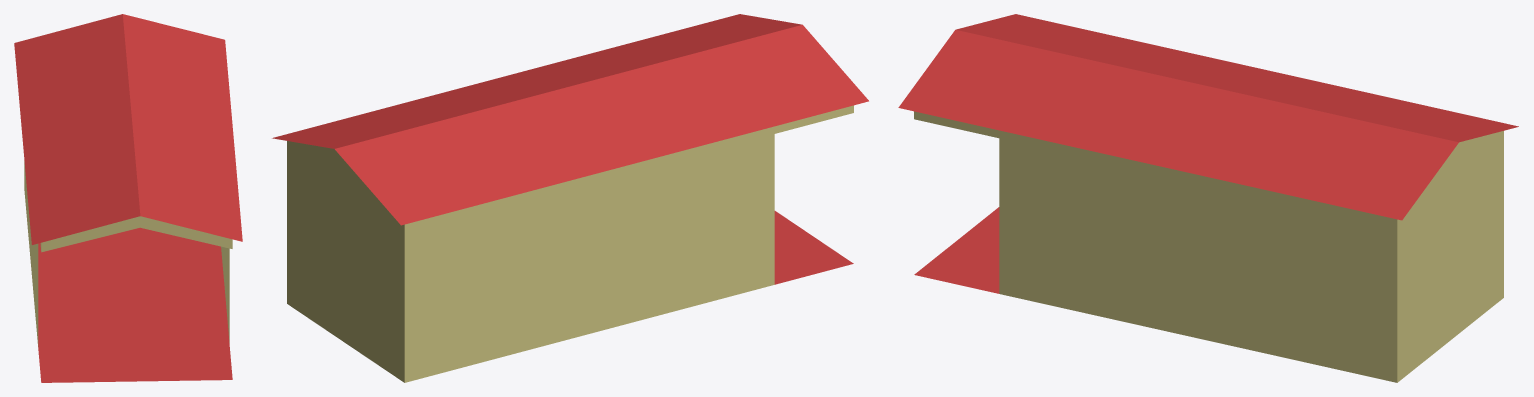
The picture shows the model from 3 angles, left to right: view 1: azimuth 30°, elevation 25°; view 2: azimuth 150°, elevation 25°; view 3: azimuth 270°, elevation 25°; orthographic projection. The views are drawn at different scales.
Bounding box in the file's own units: 21.03 × 26.74 × 9.58.
